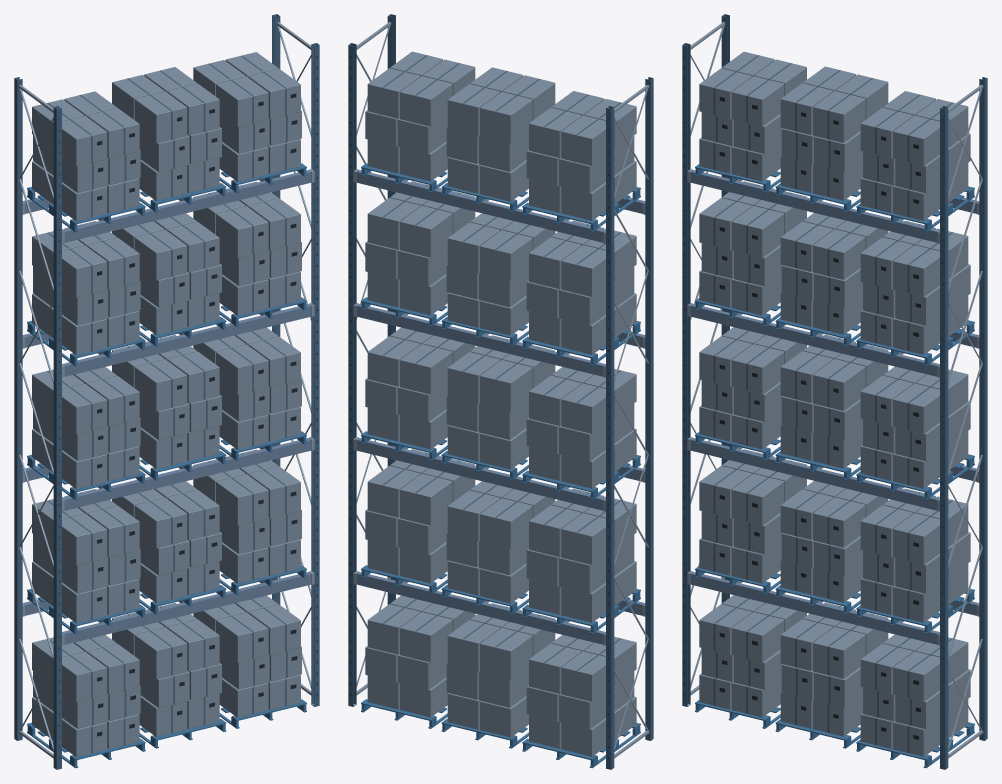
The model's file is SM_GHS_V2Rack_D2.fbx.
3 views of the same model, side by side, from view 1: azimuth 30°, elevation 25°; view 2: azimuth 150°, elevation 25°; view 3: azimuth 330°, elevation 25° (orthographic).
Visible parts, largest first — view 1: SM_GHS_V2Rack_D2; view 2: SM_GHS_V2Rack_D2; view 3: SM_GHS_V2Rack_D2.
Boxes of the visible parts, box(x1,y1,x2,y2) form: SM_GHS_V2Rack_D2: box(14, 14, 319, 769); SM_GHS_V2Rack_D2: box(348, 14, 653, 769); SM_GHS_V2Rack_D2: box(682, 14, 987, 769).
Size of the model in its own units: 381 by 122 by 914.
